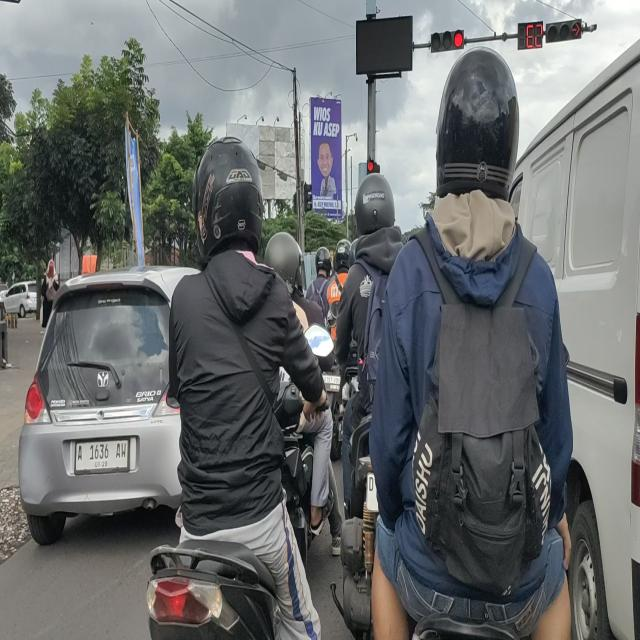helmet: (439, 52, 516, 195), (197, 146, 264, 249), (356, 177, 396, 233), (266, 231, 304, 286), (331, 237, 353, 272), (314, 242, 331, 278)
